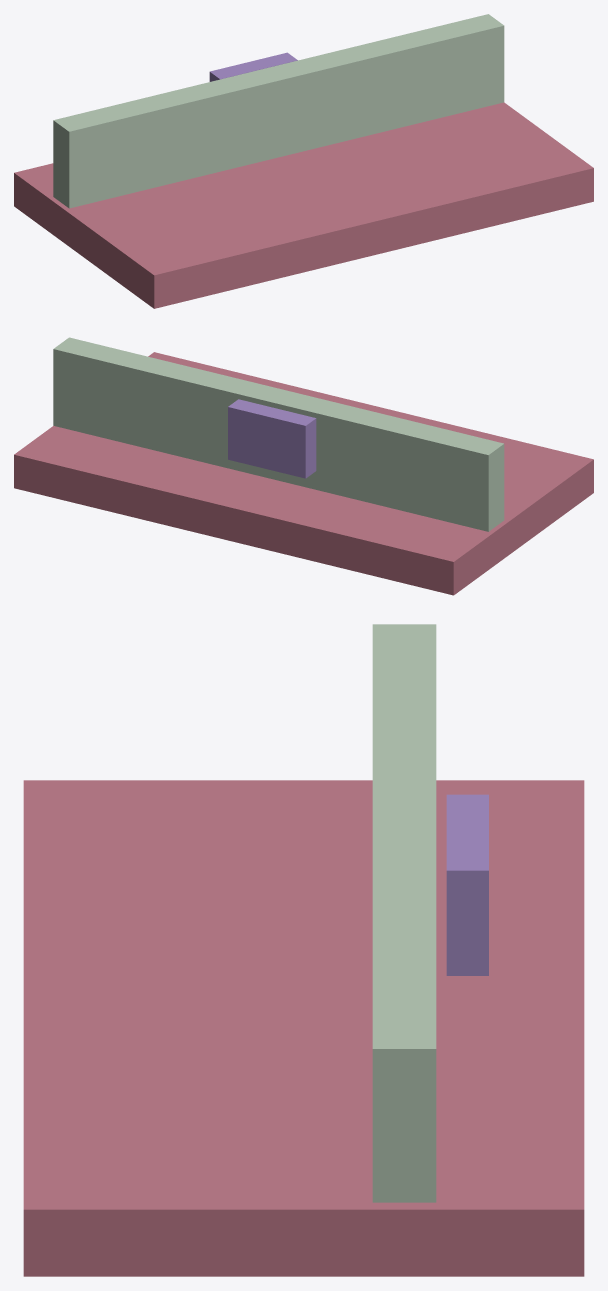
3 renders of one model, top to bottom at view 1: azimuth 30°, elevation 25°; view 2: azimuth 150°, elevation 25°; view 3: azimuth 270°, elevation 25°, orthographic. The views are drawn at different scales.
Parts seen in each view (by area): view 1: world; view 2: world; view 3: world.
Boxes of the visible parts, bbox=[...] form: world: bbox=[14, 14, 593, 308]; world: bbox=[14, 337, 593, 595]; world: bbox=[23, 624, 584, 1276].
Bounding box in the file's own units: 9.6 × 2.35 × 5.3.
